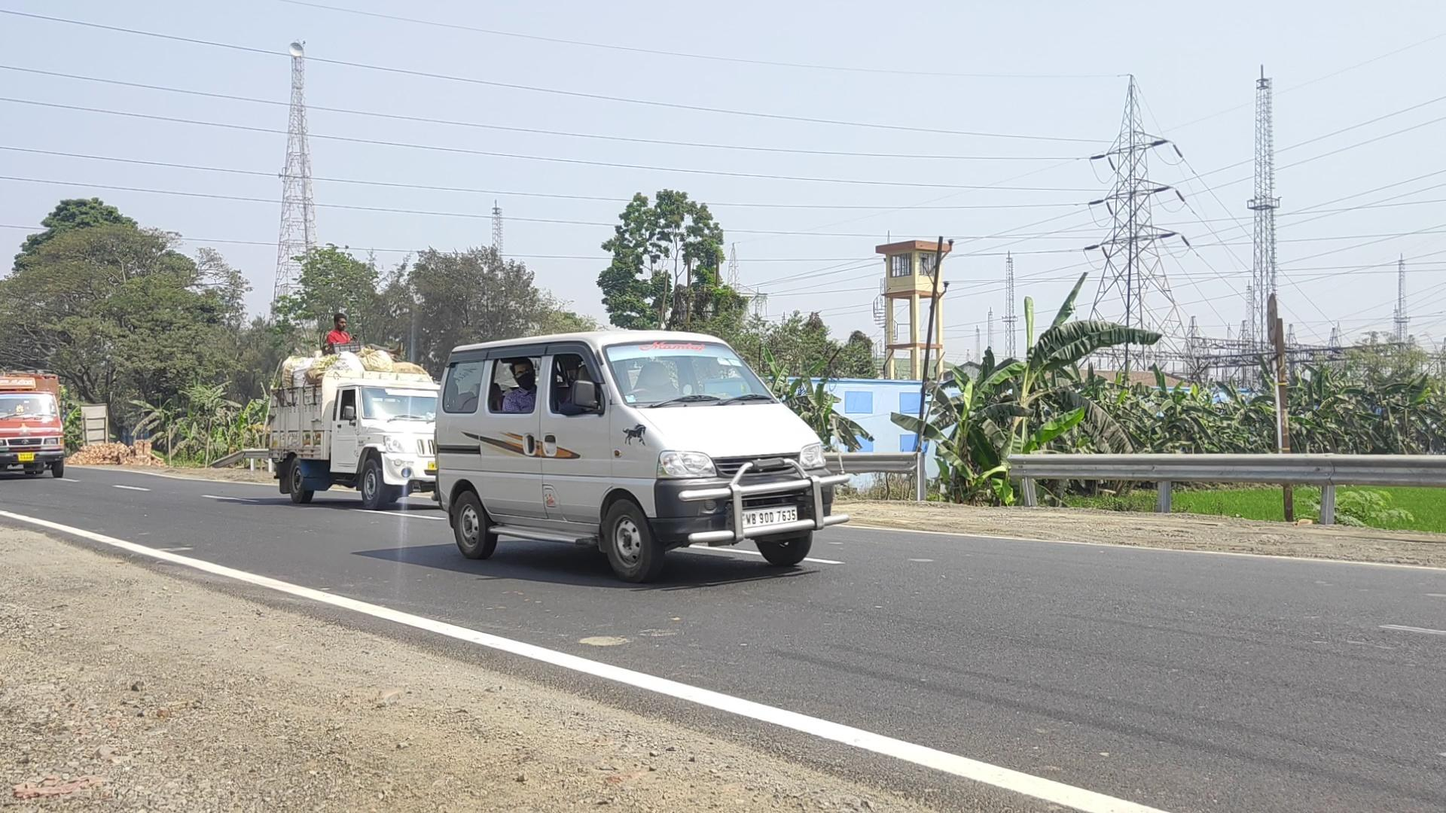truck: (2, 373, 69, 482)
van: (432, 329, 853, 582), (266, 315, 458, 510)
